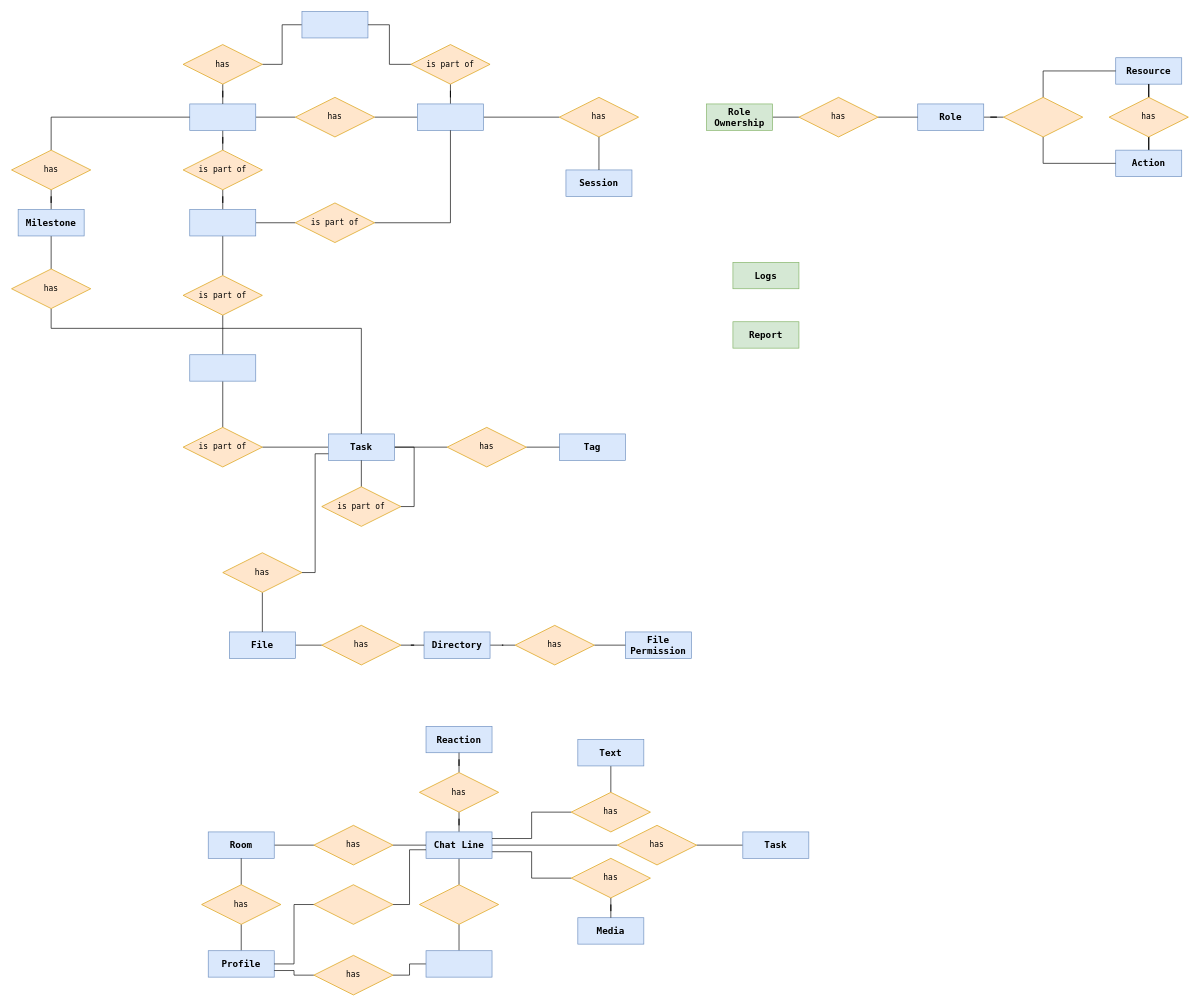
Image size: 1200x1007. Some labels were removed from this diagram. Here are the shapes that lost their labels. From the top down, the centre of each, then its label:
the point at 334,24: Team
the point at 222,116: Workspace
the point at 450,116: User
the point at 1043,117: permits
the point at 222,222: Board
the point at 222,367: List
the point at 353,904: Creates
the point at 459,904: gets
the point at 458,963: Seen
